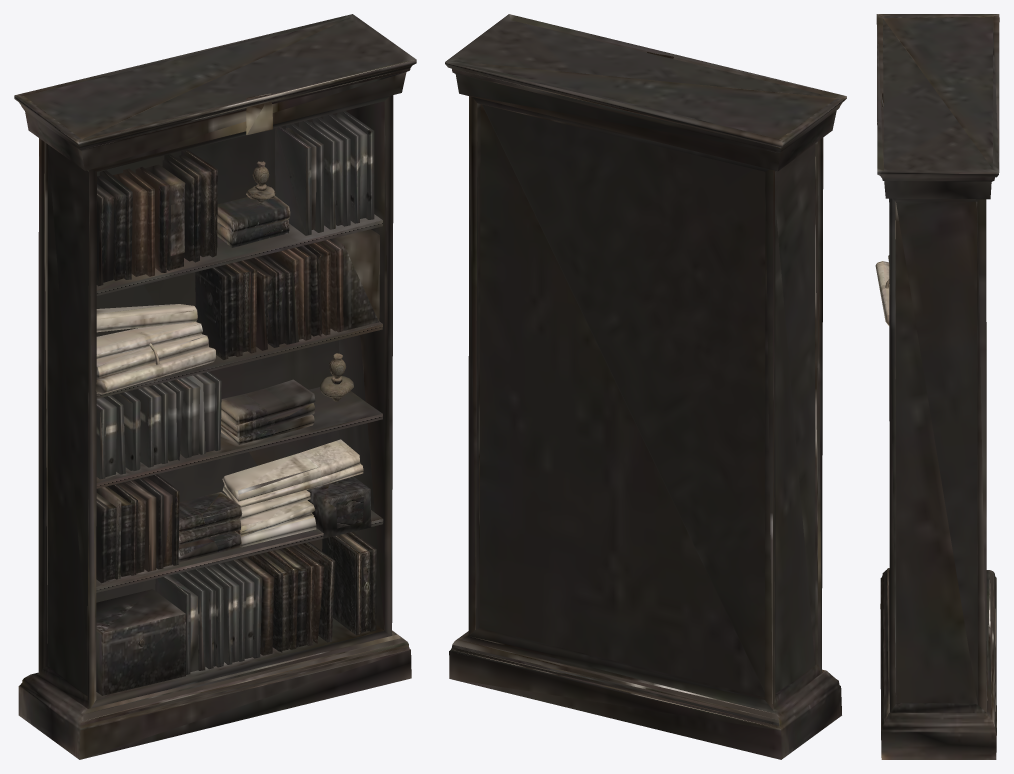
The model's file is ledger_shelf.glb.
3 views of the same model, side by side, from view 1: azimuth 30°, elevation 25°; view 2: azimuth 150°, elevation 25°; view 3: azimuth 270°, elevation 25° (orthographic). The views are drawn at different scales.
Bounding box in the file's own units: 1.2 × 2.1 × 0.4.
Materials: 1 (1 with a texture image).
